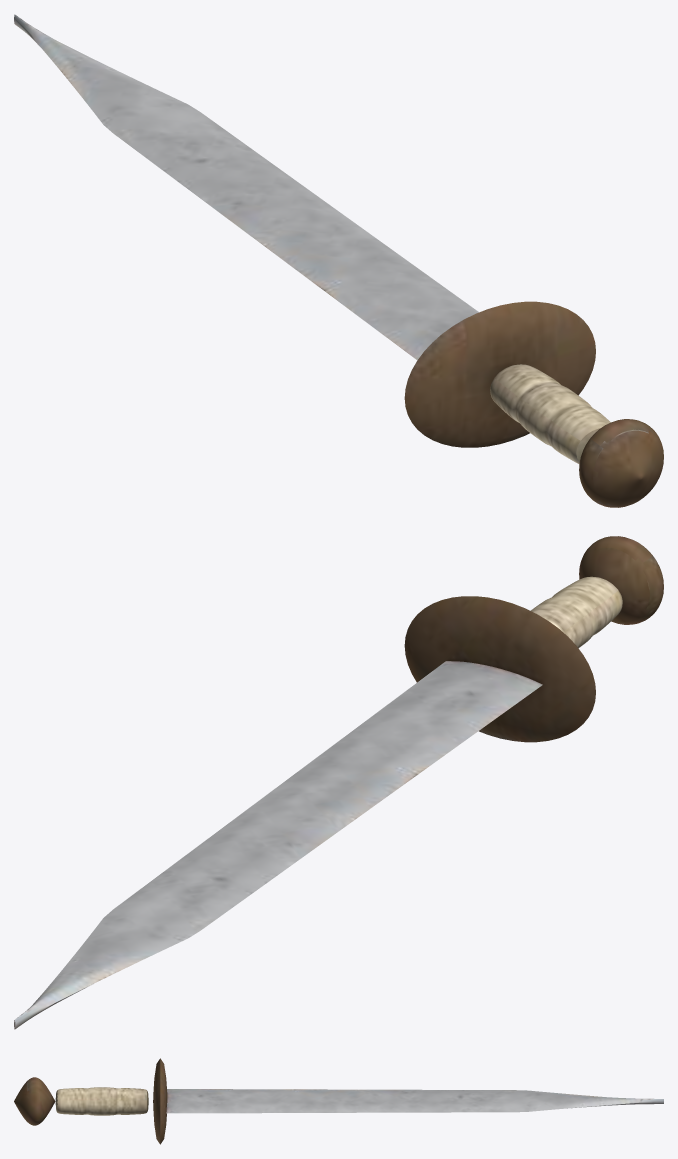
File: gladius_old.glb
3 renders of one model, top to bottom at view 1: azimuth 30°, elevation 25°; view 2: azimuth 150°, elevation 25°; view 3: azimuth 270°, elevation 25°, orthographic. The views are drawn at different scales.
Visible parts, largest first — view 1: gladius_old; view 2: gladius_old; view 3: gladius_old.
Boxes of the visible parts, x1=… form: gladius_old: x1=14, y1=14, x2=663, y2=507; gladius_old: x1=14, y1=536, x2=663, y2=1029; gladius_old: x1=14, y1=1058, x2=663, y2=1144.
Bounding box in the file's own units: 0.1104 × 0.0764 × 0.6259.
Materials: 1 (1 with a texture image).
